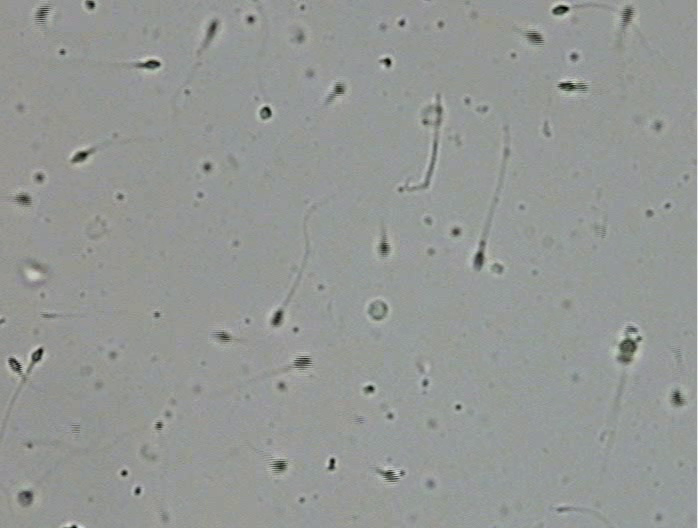Impurity: (368, 300, 389, 320)
S: (617, 338, 637, 365), (525, 30, 545, 47), (292, 355, 313, 370), (34, 6, 51, 24), (269, 458, 288, 474), (381, 469, 401, 483), (7, 357, 23, 374), (670, 389, 685, 407), (621, 6, 634, 26), (17, 490, 33, 506), (213, 329, 230, 343), (473, 250, 484, 271), (377, 240, 390, 257), (557, 81, 577, 92), (71, 151, 89, 163), (14, 194, 32, 206), (271, 310, 284, 326), (31, 347, 44, 363), (332, 82, 346, 96), (552, 5, 570, 15), (207, 20, 218, 36), (143, 60, 161, 69), (260, 106, 272, 119), (85, 1, 96, 10)
